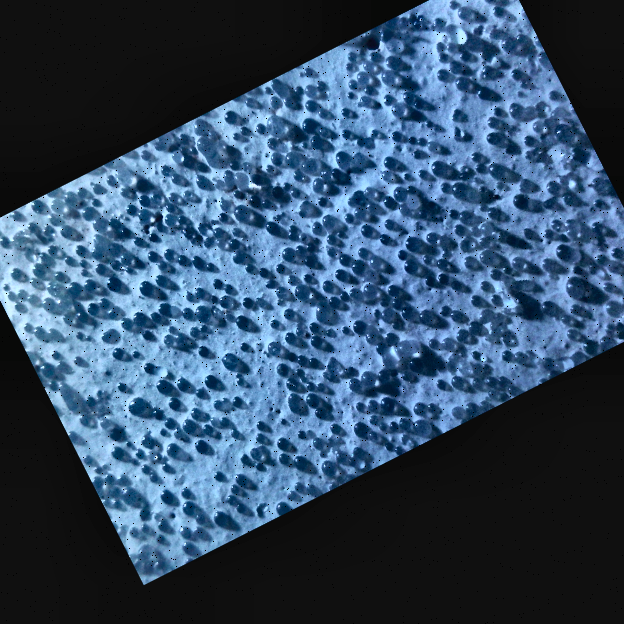GrassBeadSeg: (99, 65, 569, 427), (165, 132, 567, 536), (154, 58, 446, 542), (181, 179, 558, 551), (195, 129, 547, 514), (30, 15, 442, 342), (161, 130, 500, 502), (92, 149, 559, 404), (55, 105, 500, 370), (66, 62, 353, 440), (276, 4, 504, 463), (234, 59, 462, 511), (276, 67, 521, 475), (188, 161, 485, 493), (266, 0, 583, 295), (222, 75, 469, 449), (175, 133, 534, 390), (230, 133, 533, 435), (142, 116, 498, 372), (83, 99, 326, 462), (86, 107, 326, 463), (161, 92, 425, 414), (109, 254, 525, 457), (183, 49, 356, 521), (141, 78, 326, 507), (118, 127, 505, 332), (245, 36, 515, 328), (45, 164, 346, 424), (193, 135, 401, 479), (174, 201, 371, 564), (116, 128, 376, 391), (286, 49, 470, 405), (321, 5, 470, 439), (231, 229, 531, 440), (30, 130, 457, 275), (136, 114, 283, 533), (193, 130, 347, 521), (211, 75, 517, 268), (168, 196, 437, 412), (204, 127, 481, 332), (93, 237, 595, 348), (128, 320, 386, 535), (165, 202, 464, 387), (308, 101, 523, 347), (8, 266, 445, 387), (179, 134, 325, 496), (327, 312, 623, 489), (233, 83, 363, 484), (307, 53, 469, 367), (108, 259, 386, 439), (165, 338, 596, 454), (159, 303, 415, 498), (47, 212, 319, 390), (41, 224, 233, 474), (74, 209, 239, 488), (315, 51, 448, 391), (196, 180, 451, 355), (257, 118, 544, 271), (346, 220, 601, 387), (303, 99, 570, 258), (78, 308, 431, 423), (313, 143, 621, 273), (127, 323, 336, 514), (304, 70, 463, 320), (141, 17, 421, 158), (293, 75, 468, 298), (151, 222, 323, 448), (141, 267, 347, 455), (39, 191, 193, 438), (66, 284, 363, 412), (411, 35, 511, 413), (292, 84, 423, 369), (140, 207, 276, 480), (394, 217, 556, 445), (353, 150, 481, 434), (381, 148, 578, 328), (176, 220, 322, 462), (401, 197, 604, 365), (302, 116, 524, 268), (143, 328, 303, 537), (366, 76, 500, 322), (243, 96, 425, 272), (269, 151, 394, 407), (279, 162, 430, 373), (207, 239, 379, 423), (285, 254, 476, 413), (193, 314, 429, 434), (300, 0, 470, 166), (61, 220, 278, 350), (180, 195, 328, 385), (9, 246, 623, 291), (22, 233, 305, 330), (252, 265, 393, 450), (231, 151, 333, 405), (50, 348, 295, 453), (53, 117, 206, 279), (274, 377, 447, 514), (105, 183, 324, 289), (38, 262, 298, 345), (305, 69, 421, 246), (154, 351, 280, 512), (193, 261, 574, 314), (164, 341, 385, 426), (136, 209, 191, 538), (240, 257, 315, 478), (320, 170, 489, 267), (226, 225, 285, 502), (86, 382, 464, 425), (254, 330, 397, 440), (373, 185, 465, 353), (203, 226, 530, 270), (152, 240, 246, 393), (32, 203, 136, 336), (479, 217, 600, 327), (144, 193, 198, 432), (334, 66, 460, 164), (119, 286, 400, 329), (327, 308, 393, 485), (381, 58, 490, 160), (234, 314, 306, 468), (362, 67, 447, 197), (256, 363, 332, 498), (168, 296, 251, 418), (140, 447, 257, 528), (523, 91, 613, 191), (255, 369, 375, 442), (383, 54, 498, 127), (384, 329, 466, 430), (322, 167, 387, 292), (149, 310, 214, 433), (300, 119, 445, 174), (230, 157, 317, 248), (95, 389, 166, 500), (199, 296, 301, 373), (169, 96, 255, 184), (540, 219, 604, 337), (353, 206, 445, 284), (417, 34, 463, 178), (370, 97, 425, 214), (445, 264, 509, 362), (102, 462, 161, 565), (81, 148, 149, 231), (68, 232, 154, 293), (100, 274, 163, 357), (304, 365, 361, 455), (174, 285, 206, 445), (64, 181, 128, 260), (506, 35, 556, 132), (155, 296, 402, 315), (501, 328, 572, 391), (419, 14, 523, 55), (164, 125, 367, 146), (570, 262, 619, 345), (302, 221, 355, 294), (147, 189, 202, 259), (168, 396, 264, 436), (318, 418, 407, 461), (0, 198, 66, 253), (212, 225, 224, 524), (127, 279, 153, 415), (435, 280, 487, 348), (207, 267, 347, 292), (382, 160, 419, 251), (470, 312, 507, 403), (282, 79, 372, 116), (82, 391, 205, 418), (58, 309, 98, 391), (218, 203, 247, 308), (10, 246, 58, 309), (120, 428, 164, 496), (459, 164, 524, 210), (91, 438, 153, 485), (358, 222, 401, 288), (390, 91, 432, 157), (195, 132, 248, 183), (383, 185, 433, 239), (86, 254, 129, 315), (355, 29, 388, 107), (469, 192, 527, 235), (203, 351, 237, 423), (2, 221, 34, 297), (261, 129, 288, 219), (457, 361, 505, 410), (287, 98, 307, 215), (59, 180, 100, 236), (171, 129, 227, 170), (42, 310, 145, 331), (382, 168, 433, 207), (48, 268, 87, 318), (272, 207, 318, 249), (295, 321, 331, 372), (201, 294, 250, 330), (362, 281, 382, 369), (140, 434, 207, 459), (136, 172, 183, 205), (213, 174, 243, 222), (196, 159, 271, 178), (239, 122, 266, 172), (310, 318, 366, 341), (109, 236, 140, 272), (374, 308, 398, 351), (314, 295, 347, 324), (27, 296, 55, 330), (381, 13, 416, 39), (451, 180, 472, 221), (321, 212, 352, 236), (428, 238, 447, 275), (151, 248, 172, 280), (200, 211, 226, 229), (65, 244, 85, 265), (552, 122, 566, 139), (373, 299, 384, 315), (563, 274, 571, 291), (152, 139, 164, 149), (239, 340, 249, 349), (257, 270, 265, 277), (133, 451, 141, 457), (379, 297, 383, 304)
